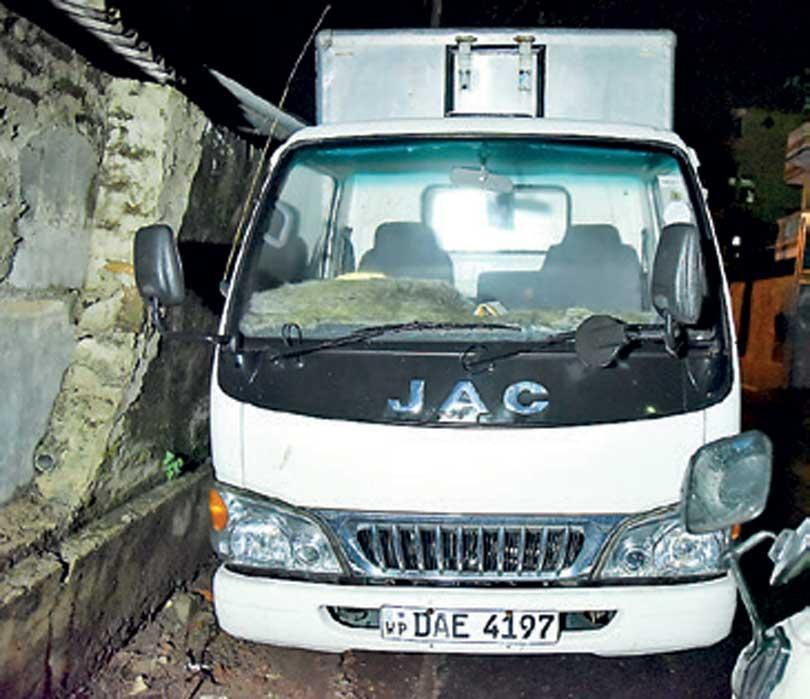truck: (134, 27, 741, 659)
